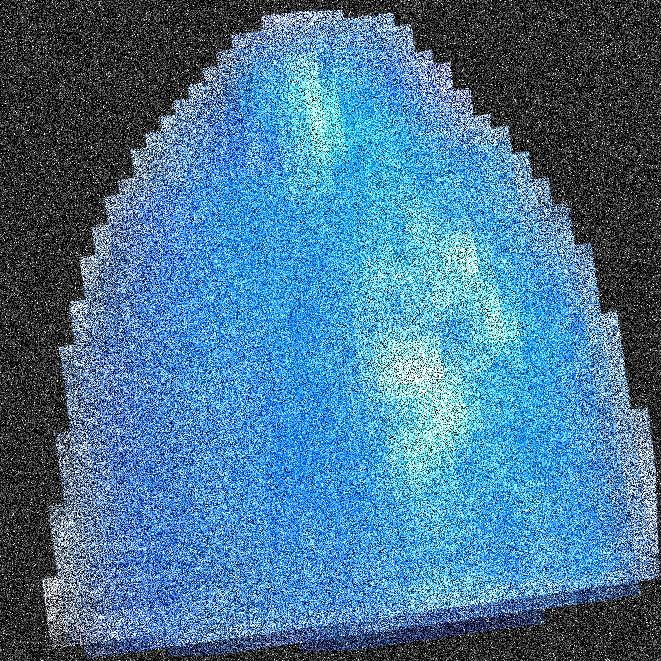Capacete: (128, 0, 565, 660)
